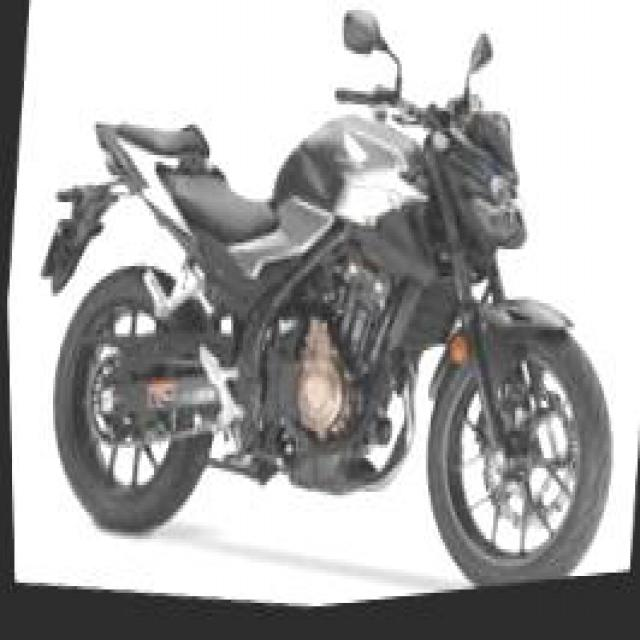CB500F: (2, 24, 638, 636)
